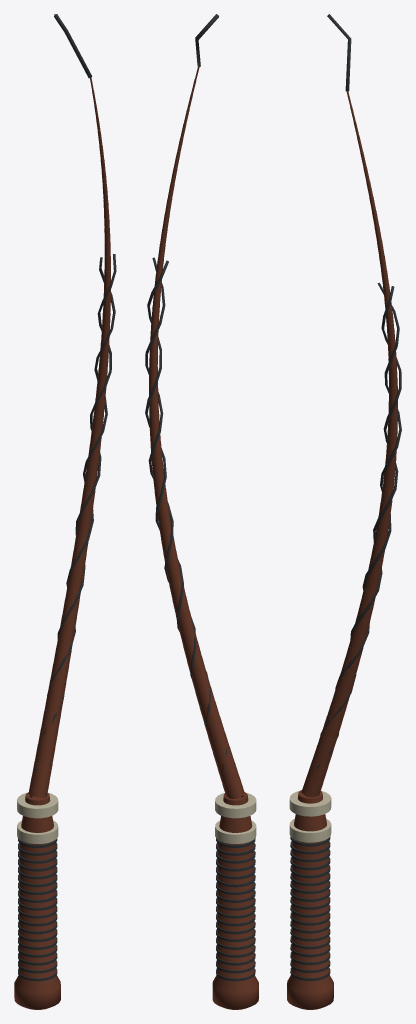
File: whip_lod0.glb
The picture shows the model from 3 angles, left to right: view 1: azimuth 30°, elevation 25°; view 2: azimuth 150°, elevation 25°; view 3: azimuth 330°, elevation 25°; orthographic projection.
Parts seen in each view (by area): view 1: whip; view 2: whip; view 3: whip.
Part boxes in pixels (x1,y1,x2,y2): whip: [14, 14, 116, 1009]; whip: [145, 14, 258, 1009]; whip: [287, 14, 401, 1009].
Size of the model in its own units: 0.1371 by 1.26 by 0.0627.
